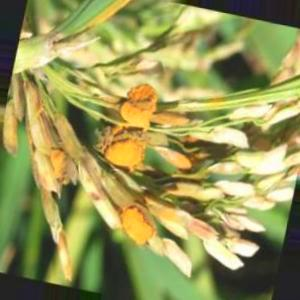Leaf_Scald: (118, 87, 157, 132), (100, 139, 138, 174), (123, 208, 150, 248), (46, 139, 66, 184)
